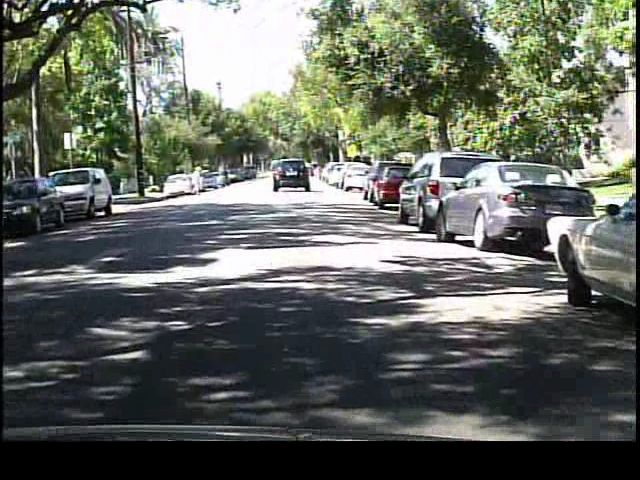person: (186, 162, 205, 200)
